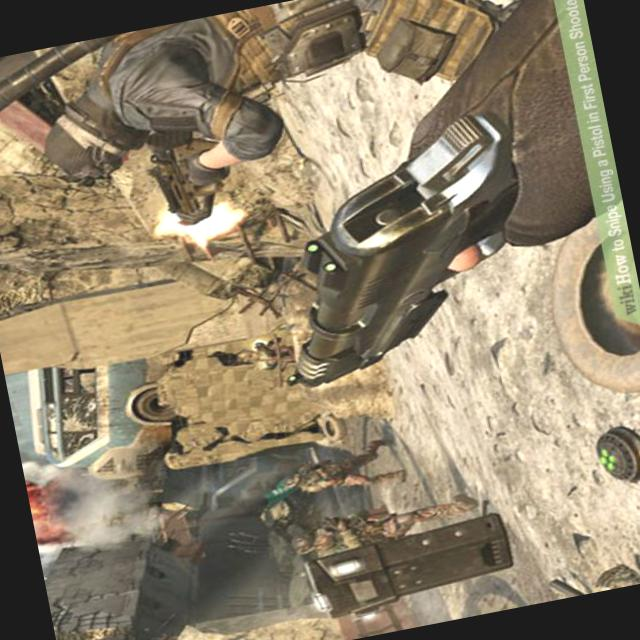handgun: (241, 101, 561, 397)
